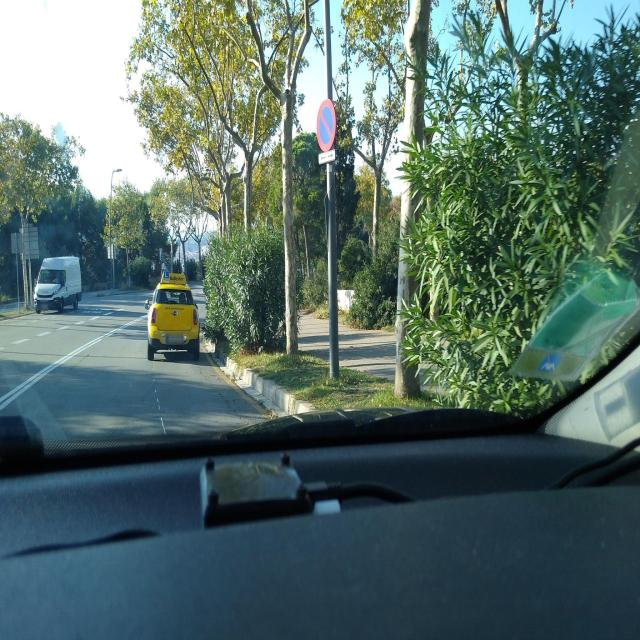forb_stopping: (316, 99, 337, 153)
